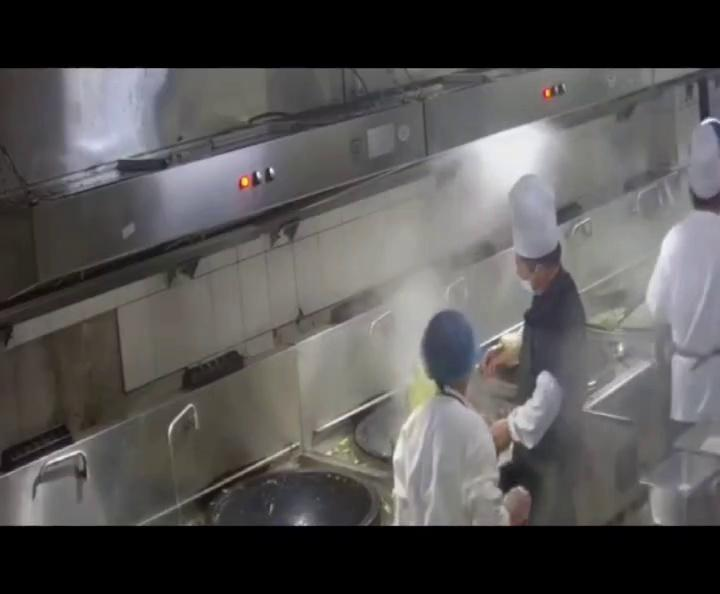gloves: (422, 307, 480, 397)
mask: (513, 260, 545, 295)
